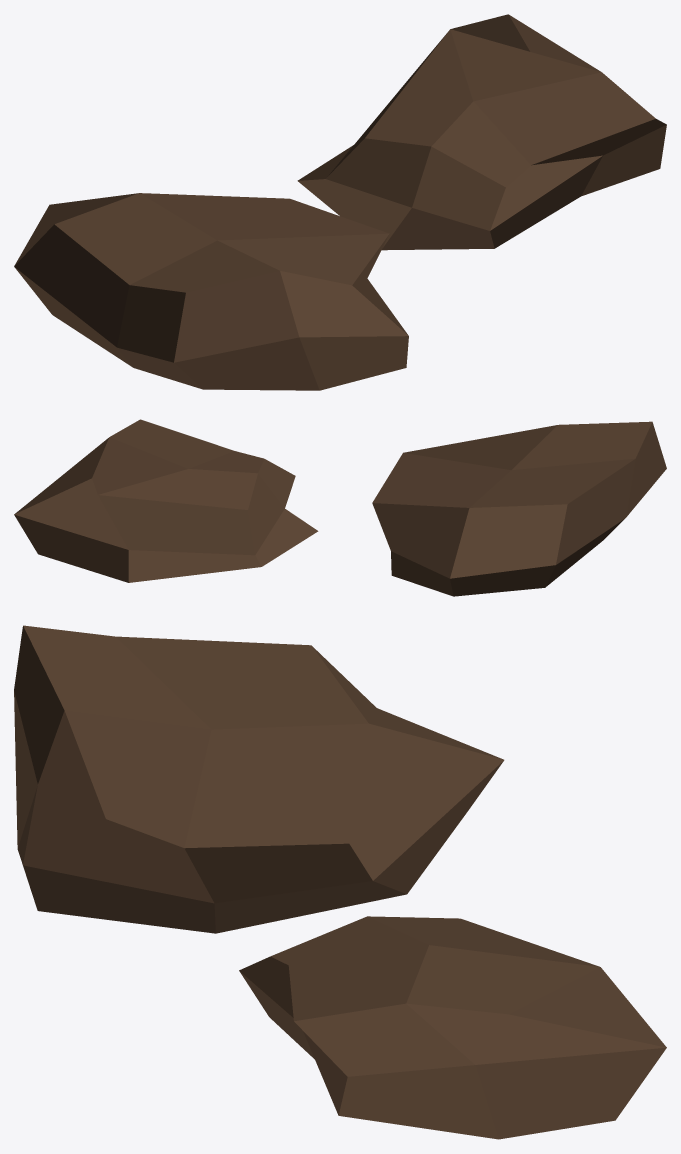
The model's file is Break3.fbx.
3 views of the same model, one above another, from view 1: azimuth 30°, elevation 25°; view 2: azimuth 150°, elevation 25°; view 3: azimuth 270°, elevation 25° (orthographic). The views are drawn at different scales.
Parts seen in each view (by area): view 1: Cube.007; view 2: Cube.007; view 3: Cube.007.
Part boxes in pixels (box(x1,y1,x2,y2)): Cube.007: box(14, 14, 666, 390); Cube.007: box(14, 419, 666, 596); Cube.007: box(14, 625, 666, 1139).
Bounding box in the file's own units: 13.52 × 2.79 × 9.84.
